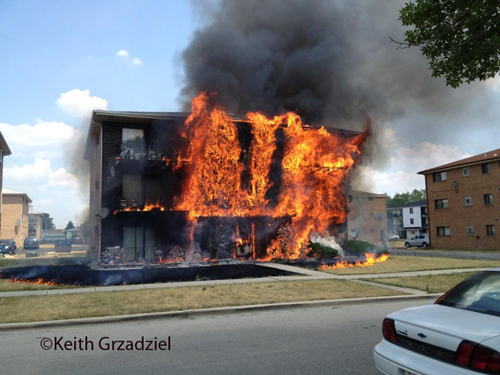fire: (192, 102, 348, 224)
smoke: (193, 7, 404, 100)
